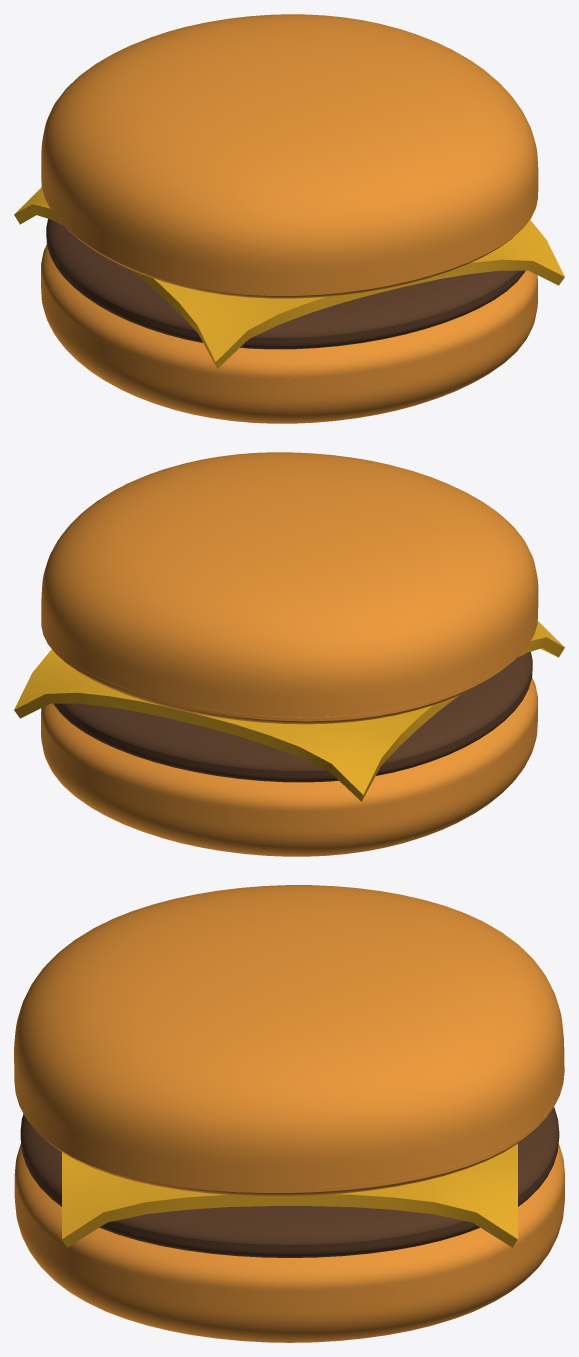
File: burger.glb
3 renders of one model, top to bottom at view 1: azimuth 30°, elevation 25°; view 2: azimuth 150°, elevation 25°; view 3: azimuth 270°, elevation 25°, orthographic. The views are drawn at different scales.
Visible parts, largest first — view 1: Cube.003, Cube.002, Cube.001, Plane; view 2: Cube.003, Cube.002, Cube.001, Plane; view 3: Cube.003, Cube.002, Cube.001, Plane.
Part boxes in pixels (bbox=[...]): Cube.003: bbox=[41, 14, 538, 298]; Cube.002: bbox=[41, 244, 537, 423]; Cube.001: bbox=[46, 219, 525, 349]; Plane: bbox=[14, 187, 564, 368]; Cube.003: bbox=[41, 452, 538, 724]; Cube.002: bbox=[41, 677, 537, 856]; Cube.001: bbox=[53, 652, 532, 782]; Plane: bbox=[14, 621, 564, 801]; Cube.003: bbox=[14, 885, 564, 1196]; Cube.002: bbox=[14, 1144, 564, 1342]; Cube.001: bbox=[20, 1107, 559, 1257]; Plane: bbox=[62, 1143, 517, 1247].
Size of the model in its own units: 8.57 by 5.42 by 8.58.
